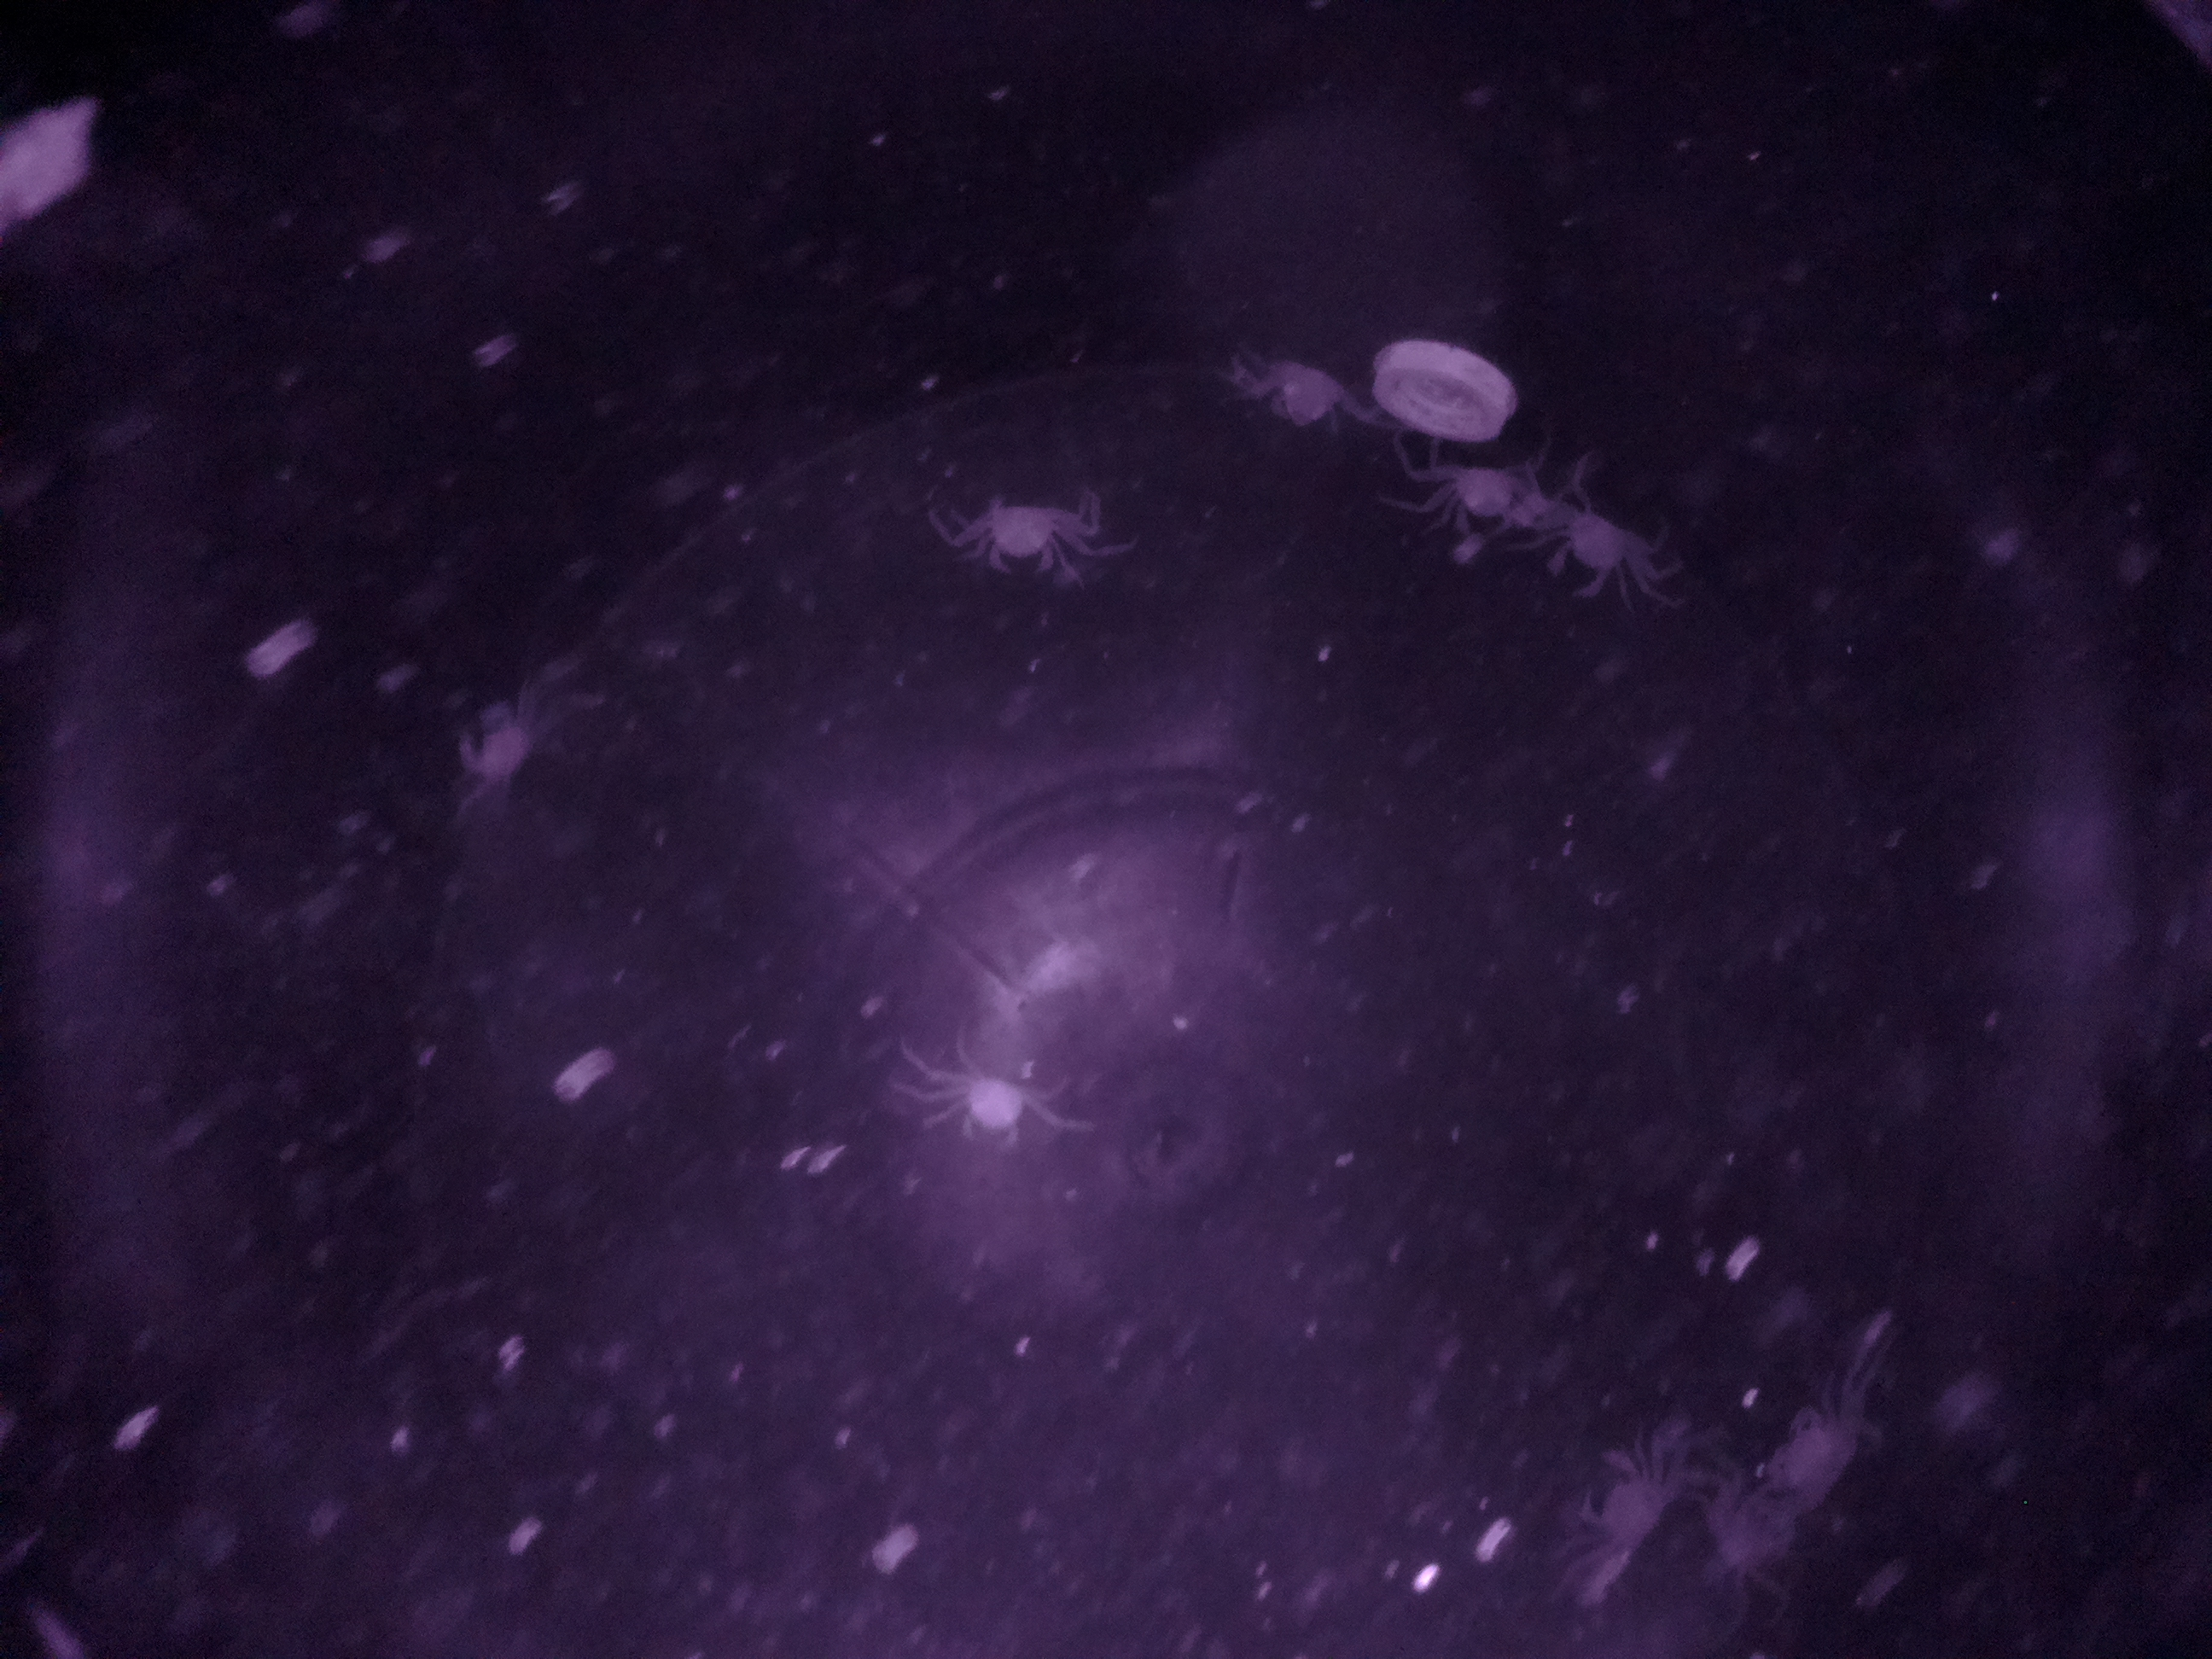Crab: (1562, 1424, 1681, 1565), (968, 471, 1076, 596), (948, 1039, 1040, 1171), (1547, 493, 1644, 617), (1428, 450, 1550, 547), (449, 695, 556, 798)
